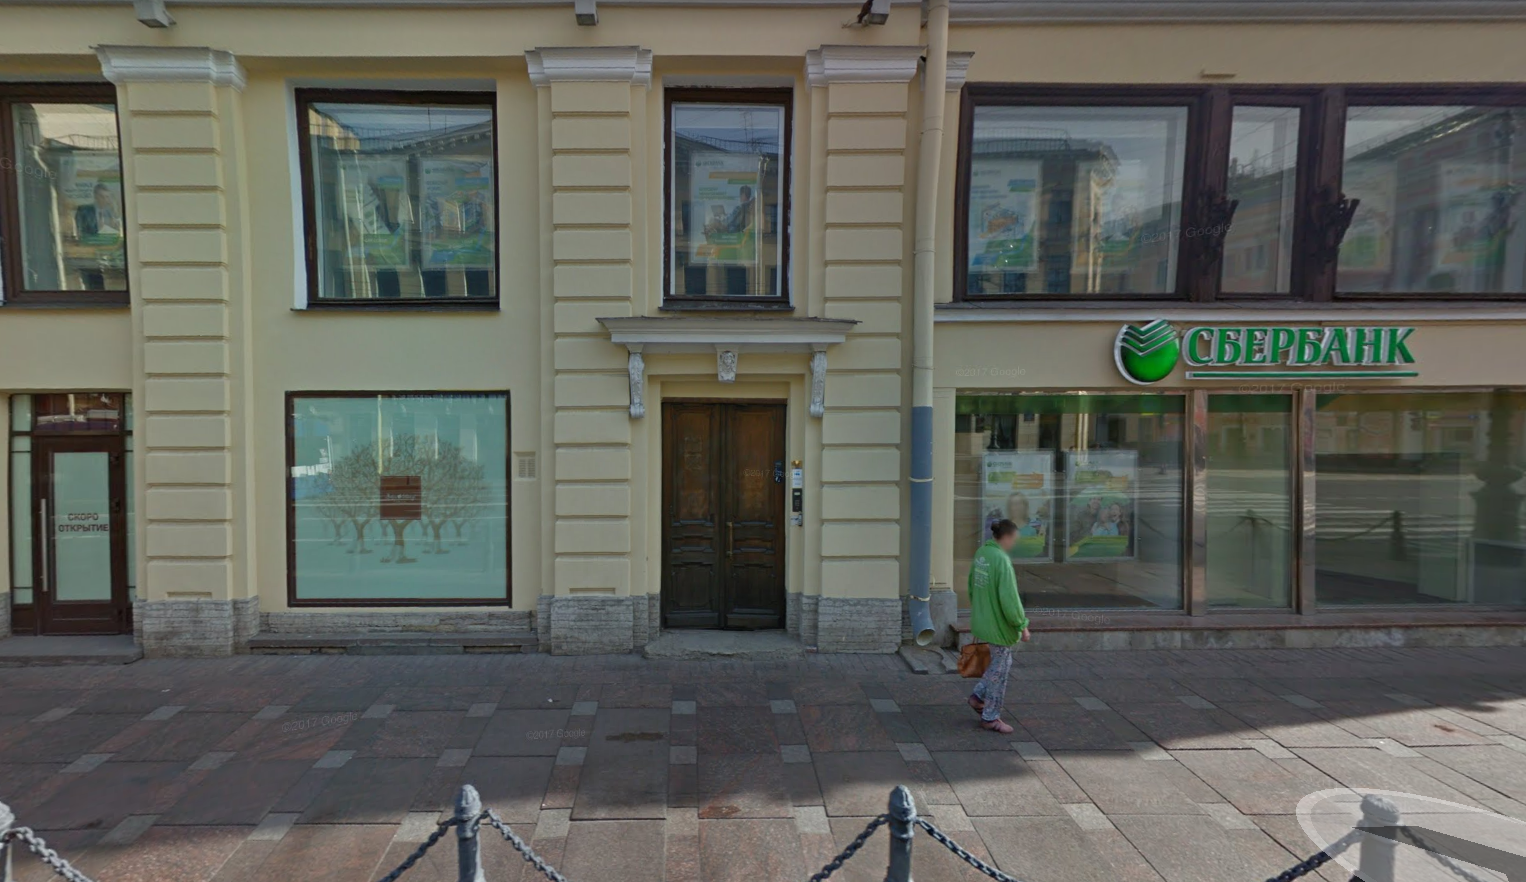door: (659, 401, 784, 630), (33, 440, 119, 627)
signboard: (1105, 308, 1430, 387)
window: (954, 391, 1526, 617), (955, 100, 1526, 304), (283, 392, 506, 608), (312, 104, 494, 299), (664, 94, 783, 302), (15, 97, 121, 298)
